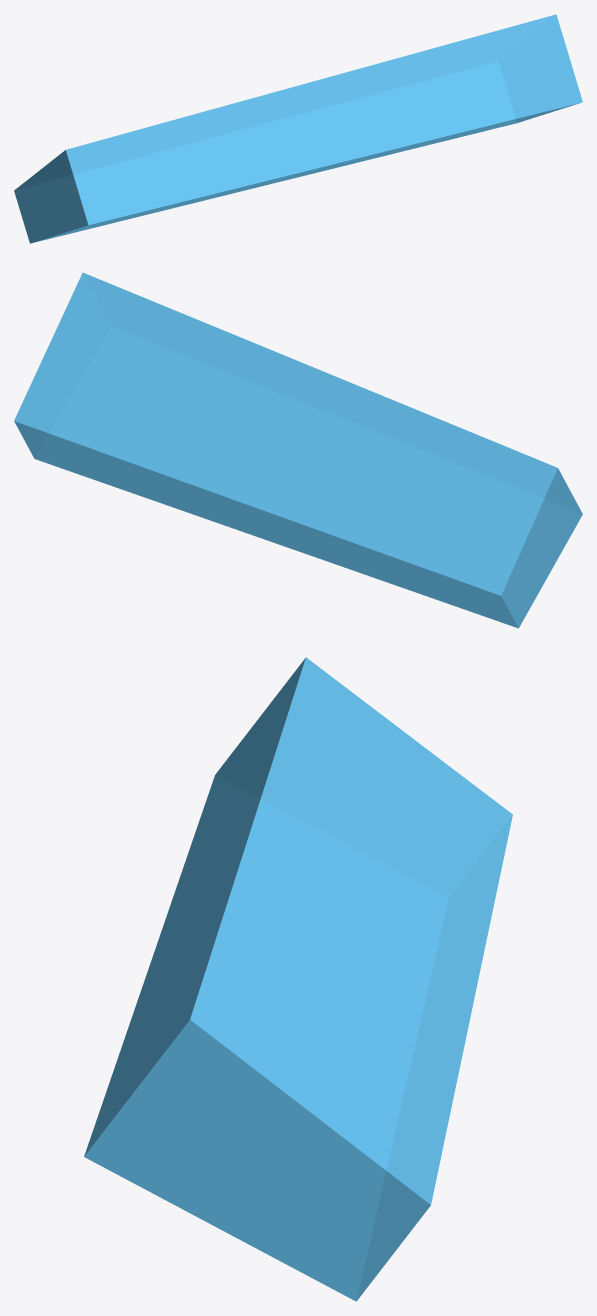
Rendered from Event_421556567_HErechit_79.fbx.
The picture shows the model from 3 angles, top to bottom: view 1: azimuth 30°, elevation 25°; view 2: azimuth 150°, elevation 25°; view 3: azimuth 270°, elevation 25°; orthographic projection. The views are drawn at different scales.
Parts seen in each view (by area): view 1: Model; view 2: Model; view 3: Model.
Part boxes in pixels (<box>): Model: <box>14,14,582,243</box>; Model: <box>14,272,582,628</box>; Model: <box>84,657,512,1301</box>.
Size of the model in its own units: 1.85 by 0.6267 by 0.7422.
